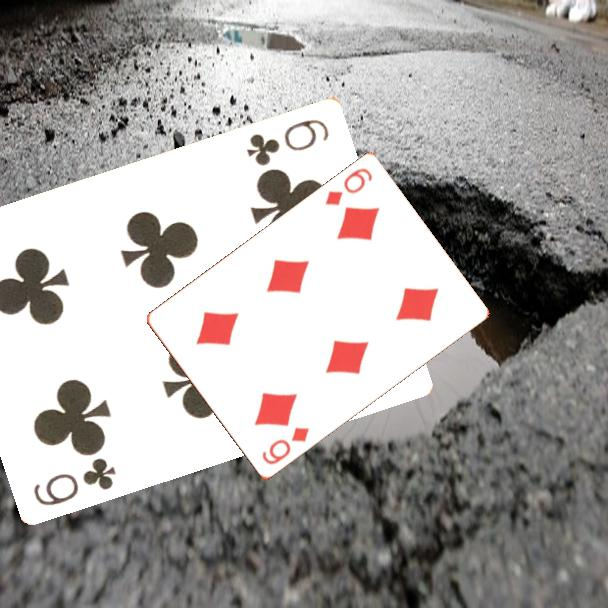c06: (30, 453, 120, 508), (243, 115, 332, 169)
d06: (258, 424, 312, 468), (321, 165, 375, 209)
